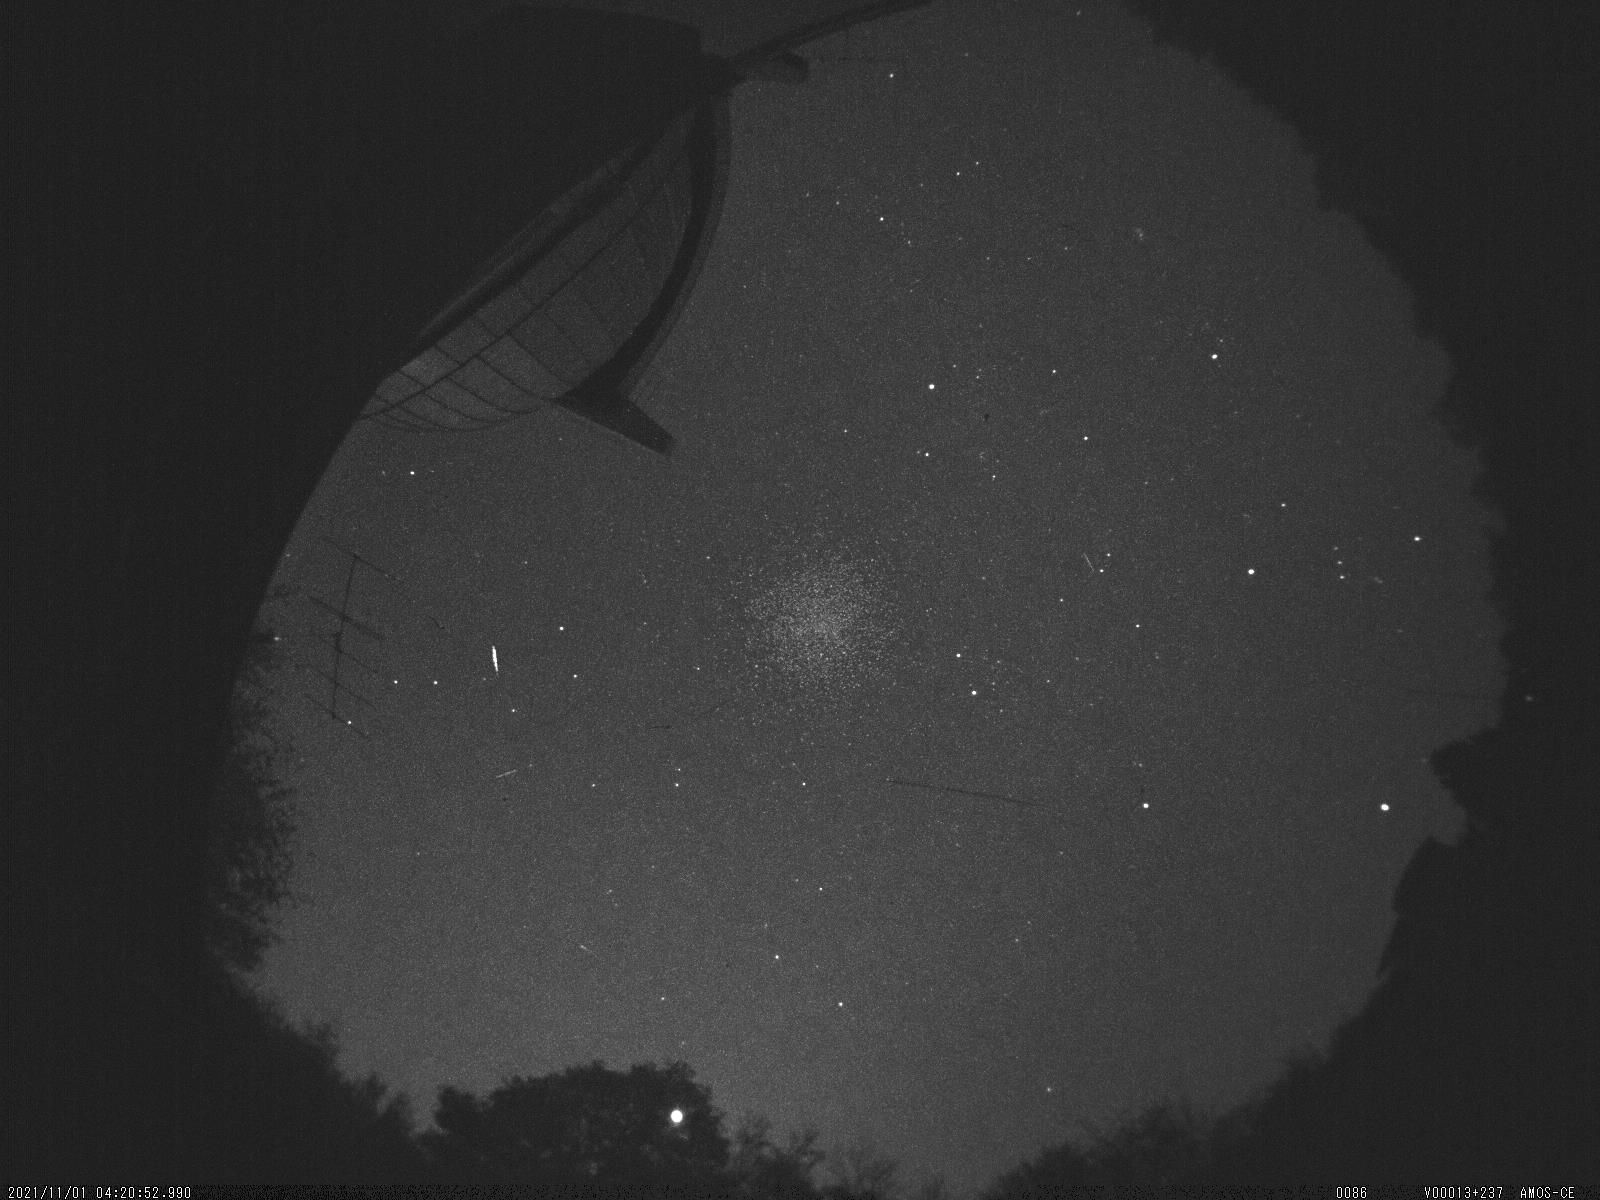Meteor: (485, 634, 509, 682)
